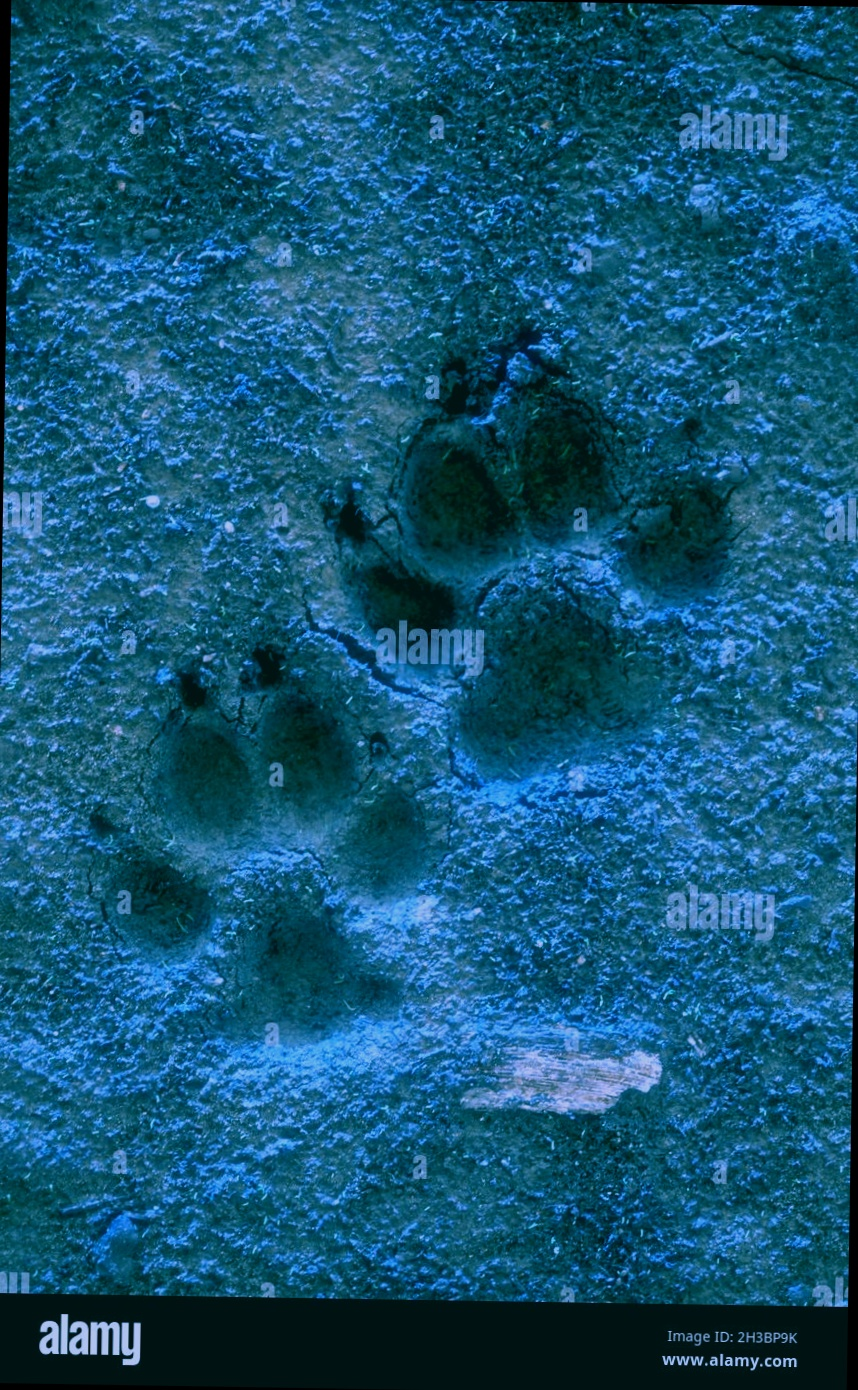loup: (62, 318, 754, 1106)
